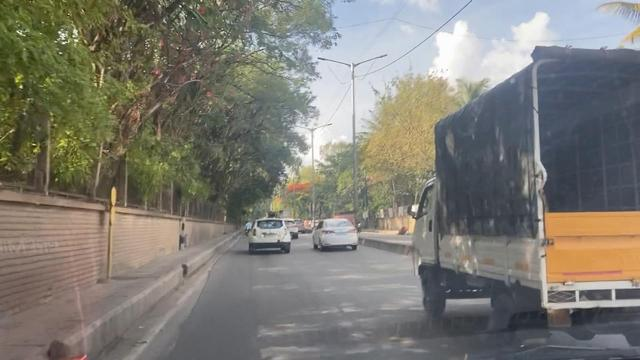HMV: (403, 49, 640, 314)
LMV: (250, 215, 293, 252), (313, 218, 361, 250)
